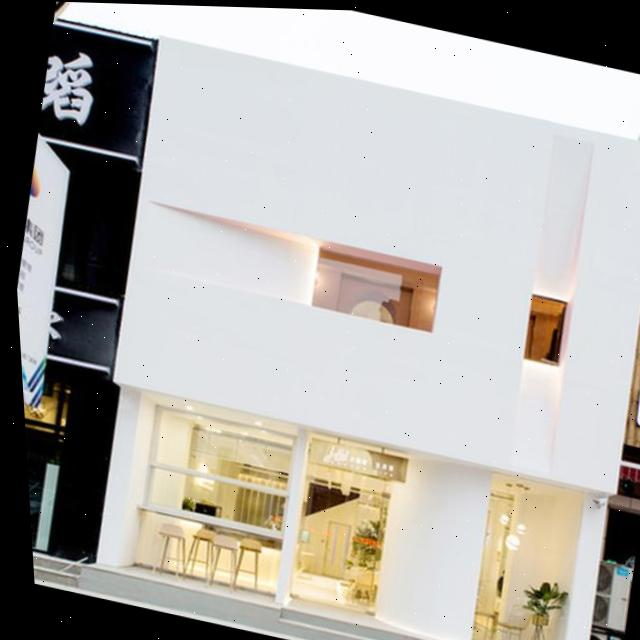building: (54, 31, 640, 640), (1, 9, 195, 569), (623, 75, 640, 206)
